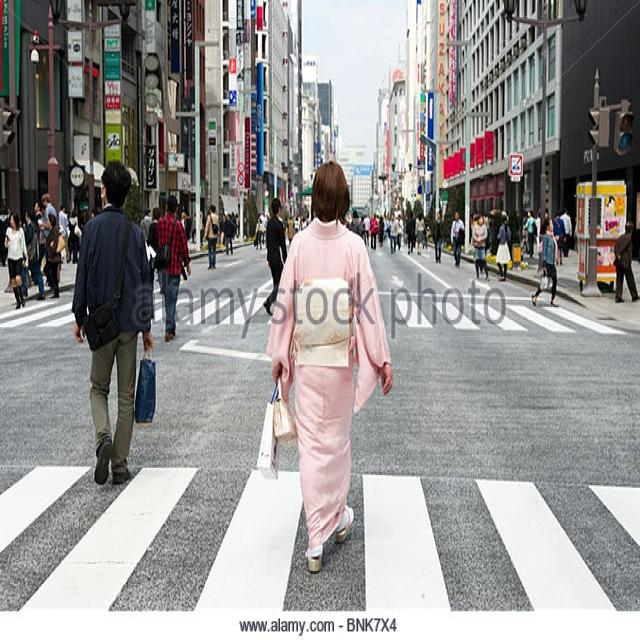body: (252, 157, 396, 576), (63, 154, 161, 486), (154, 194, 192, 343), (345, 207, 421, 256), (176, 206, 242, 256), (262, 197, 288, 317), (2, 206, 29, 312), (530, 214, 560, 307), (467, 202, 506, 267), (20, 207, 46, 300), (612, 218, 639, 304), (520, 205, 558, 264), (42, 211, 66, 300), (38, 191, 59, 287), (146, 205, 165, 297), (199, 202, 220, 272), (0, 264, 49, 293), (471, 212, 491, 283), (13, 218, 29, 304), (284, 201, 315, 245), (33, 201, 49, 285), (12, 198, 56, 227), (495, 214, 513, 283), (66, 205, 83, 266), (449, 210, 466, 268), (551, 208, 566, 267), (521, 208, 538, 258), (58, 202, 71, 266), (476, 217, 489, 280), (250, 212, 271, 251), (559, 205, 573, 258), (430, 210, 443, 266), (0, 202, 11, 268), (413, 208, 425, 257), (368, 211, 380, 252), (388, 211, 399, 255), (395, 212, 407, 252), (140, 207, 154, 240), (184, 211, 191, 240), (191, 212, 197, 245), (39, 206, 47, 226), (91, 208, 101, 218), (307, 156, 308, 161)
